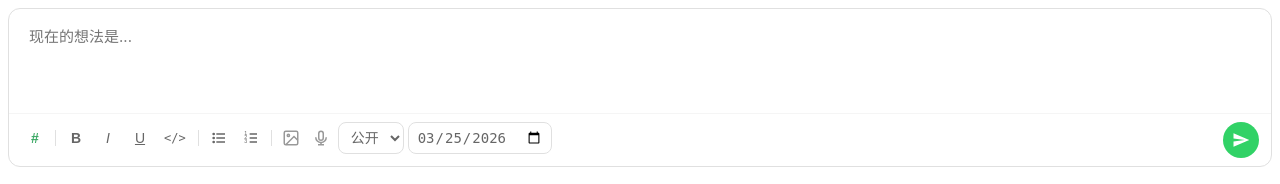
Test: MemoComposer › shows a cancel action for drafts and clears the composer back to defaults
Check: the button "取消" is not shown
Type "不想写了的草稿" into the text box with placeholder "现在的想法是..." at (640,59), box [9, 9, 1271, 109]
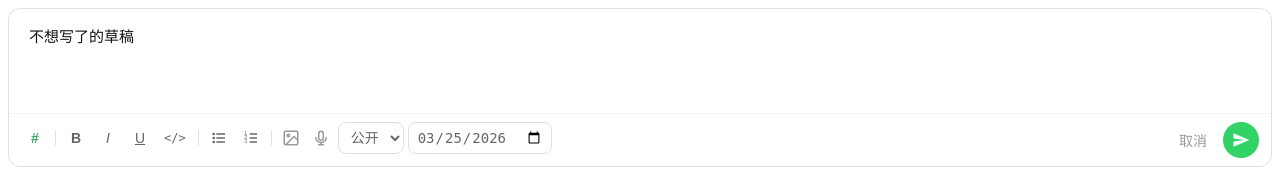
Select "私密" in the dropdown named "可见性" at (371,138), box [338, 122, 404, 154]
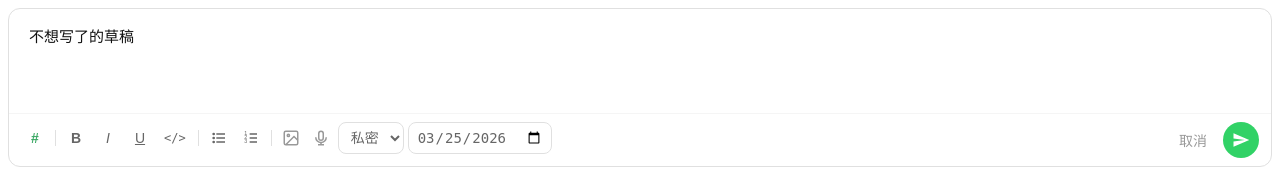
Type "2026-03-16" into the date field named "归属日期" at (480,138), box [408, 122, 552, 154]
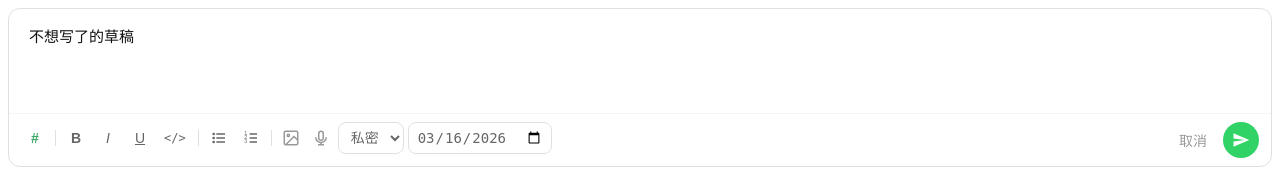
Click the button "取消" at (1193,140), box [1171, 122, 1215, 158]
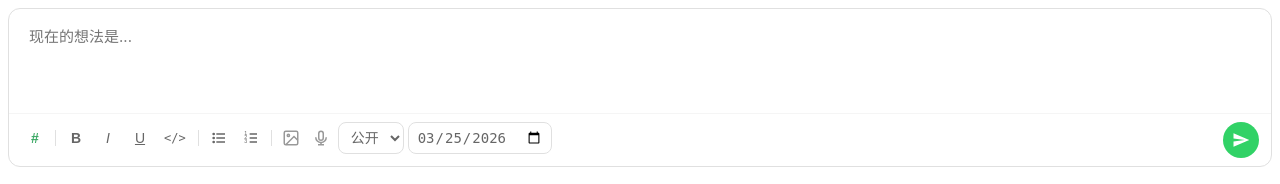
Check: the text box with placeholder "现在的想法是..." is empty, box [9, 9, 1271, 109]
Check: the date field named "归属日期" holds "2026-03-25", box [408, 122, 552, 154]
Check: the button "取消" is gone
